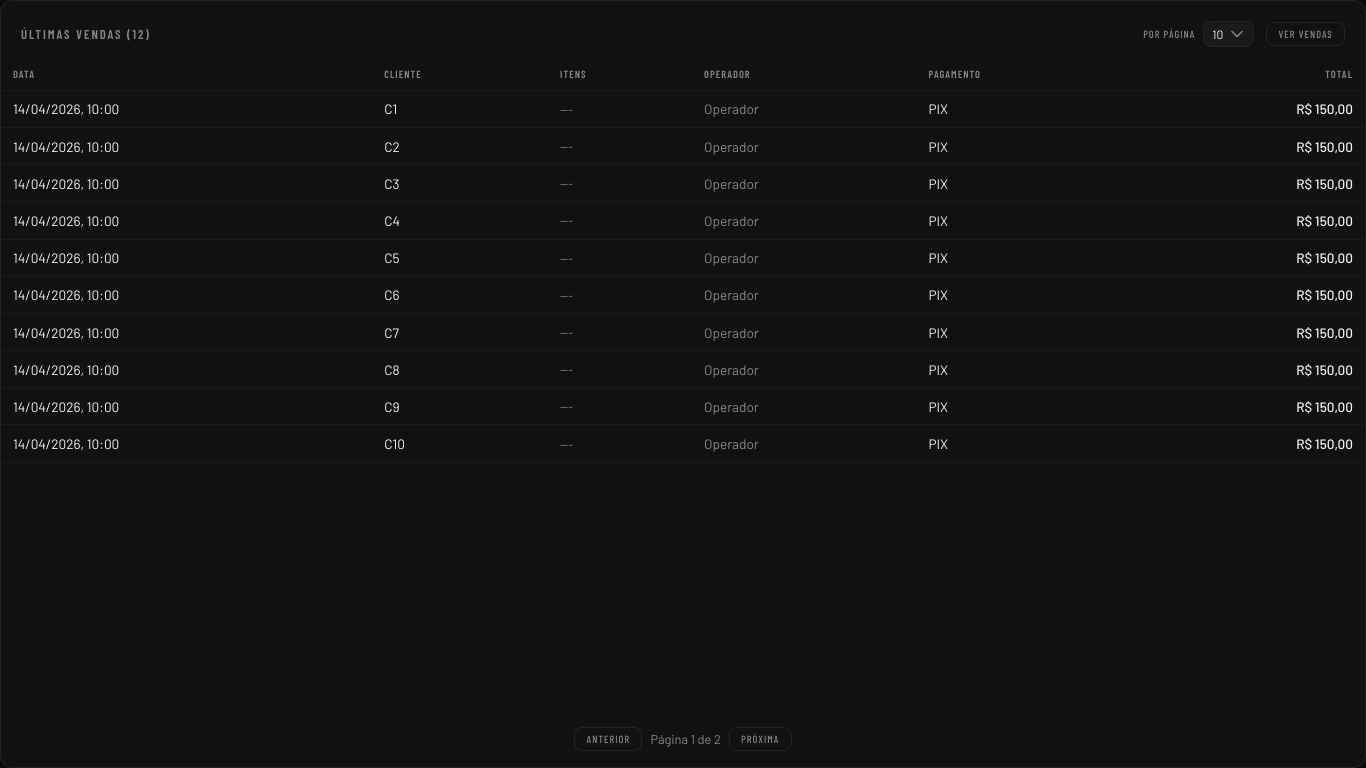
Test: RecentSalesWidget › changes page size and resets to page 1
This screenshot has width=1366, height=768.
Expected: the text "Página 1 de 2" is shown, [650, 731, 721, 747]
Select "25" in the dropdown named "Vendas por página". click: (1229,34)
box: [1203, 21, 1254, 47]
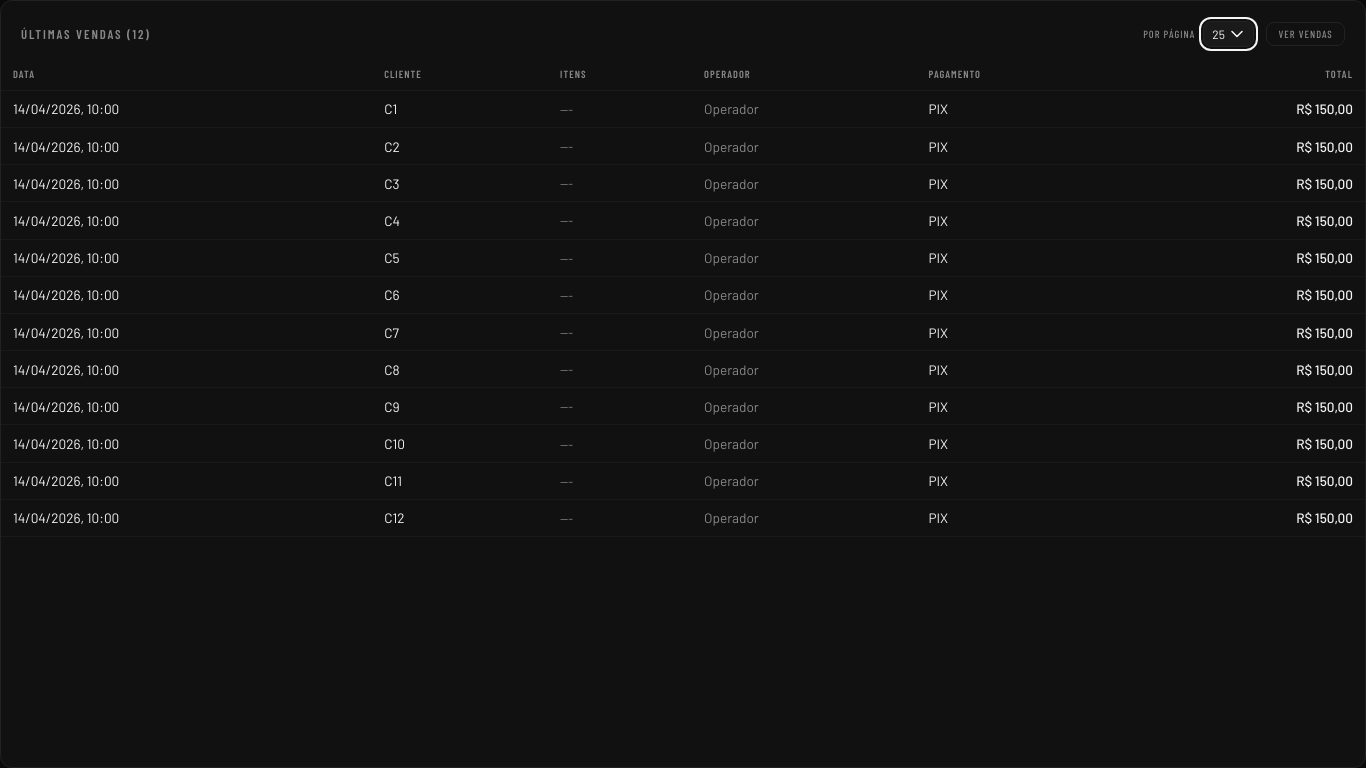
Now the text "C12" is shown, box [372, 499, 548, 536]
